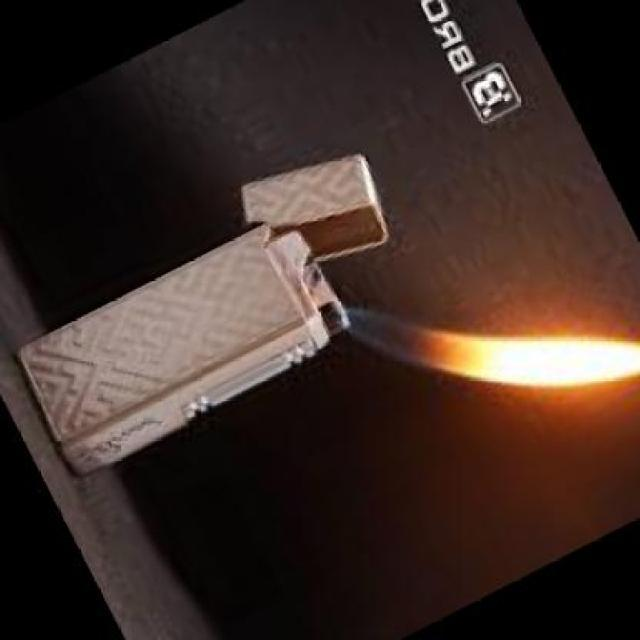Fire: (344, 279, 640, 391)
